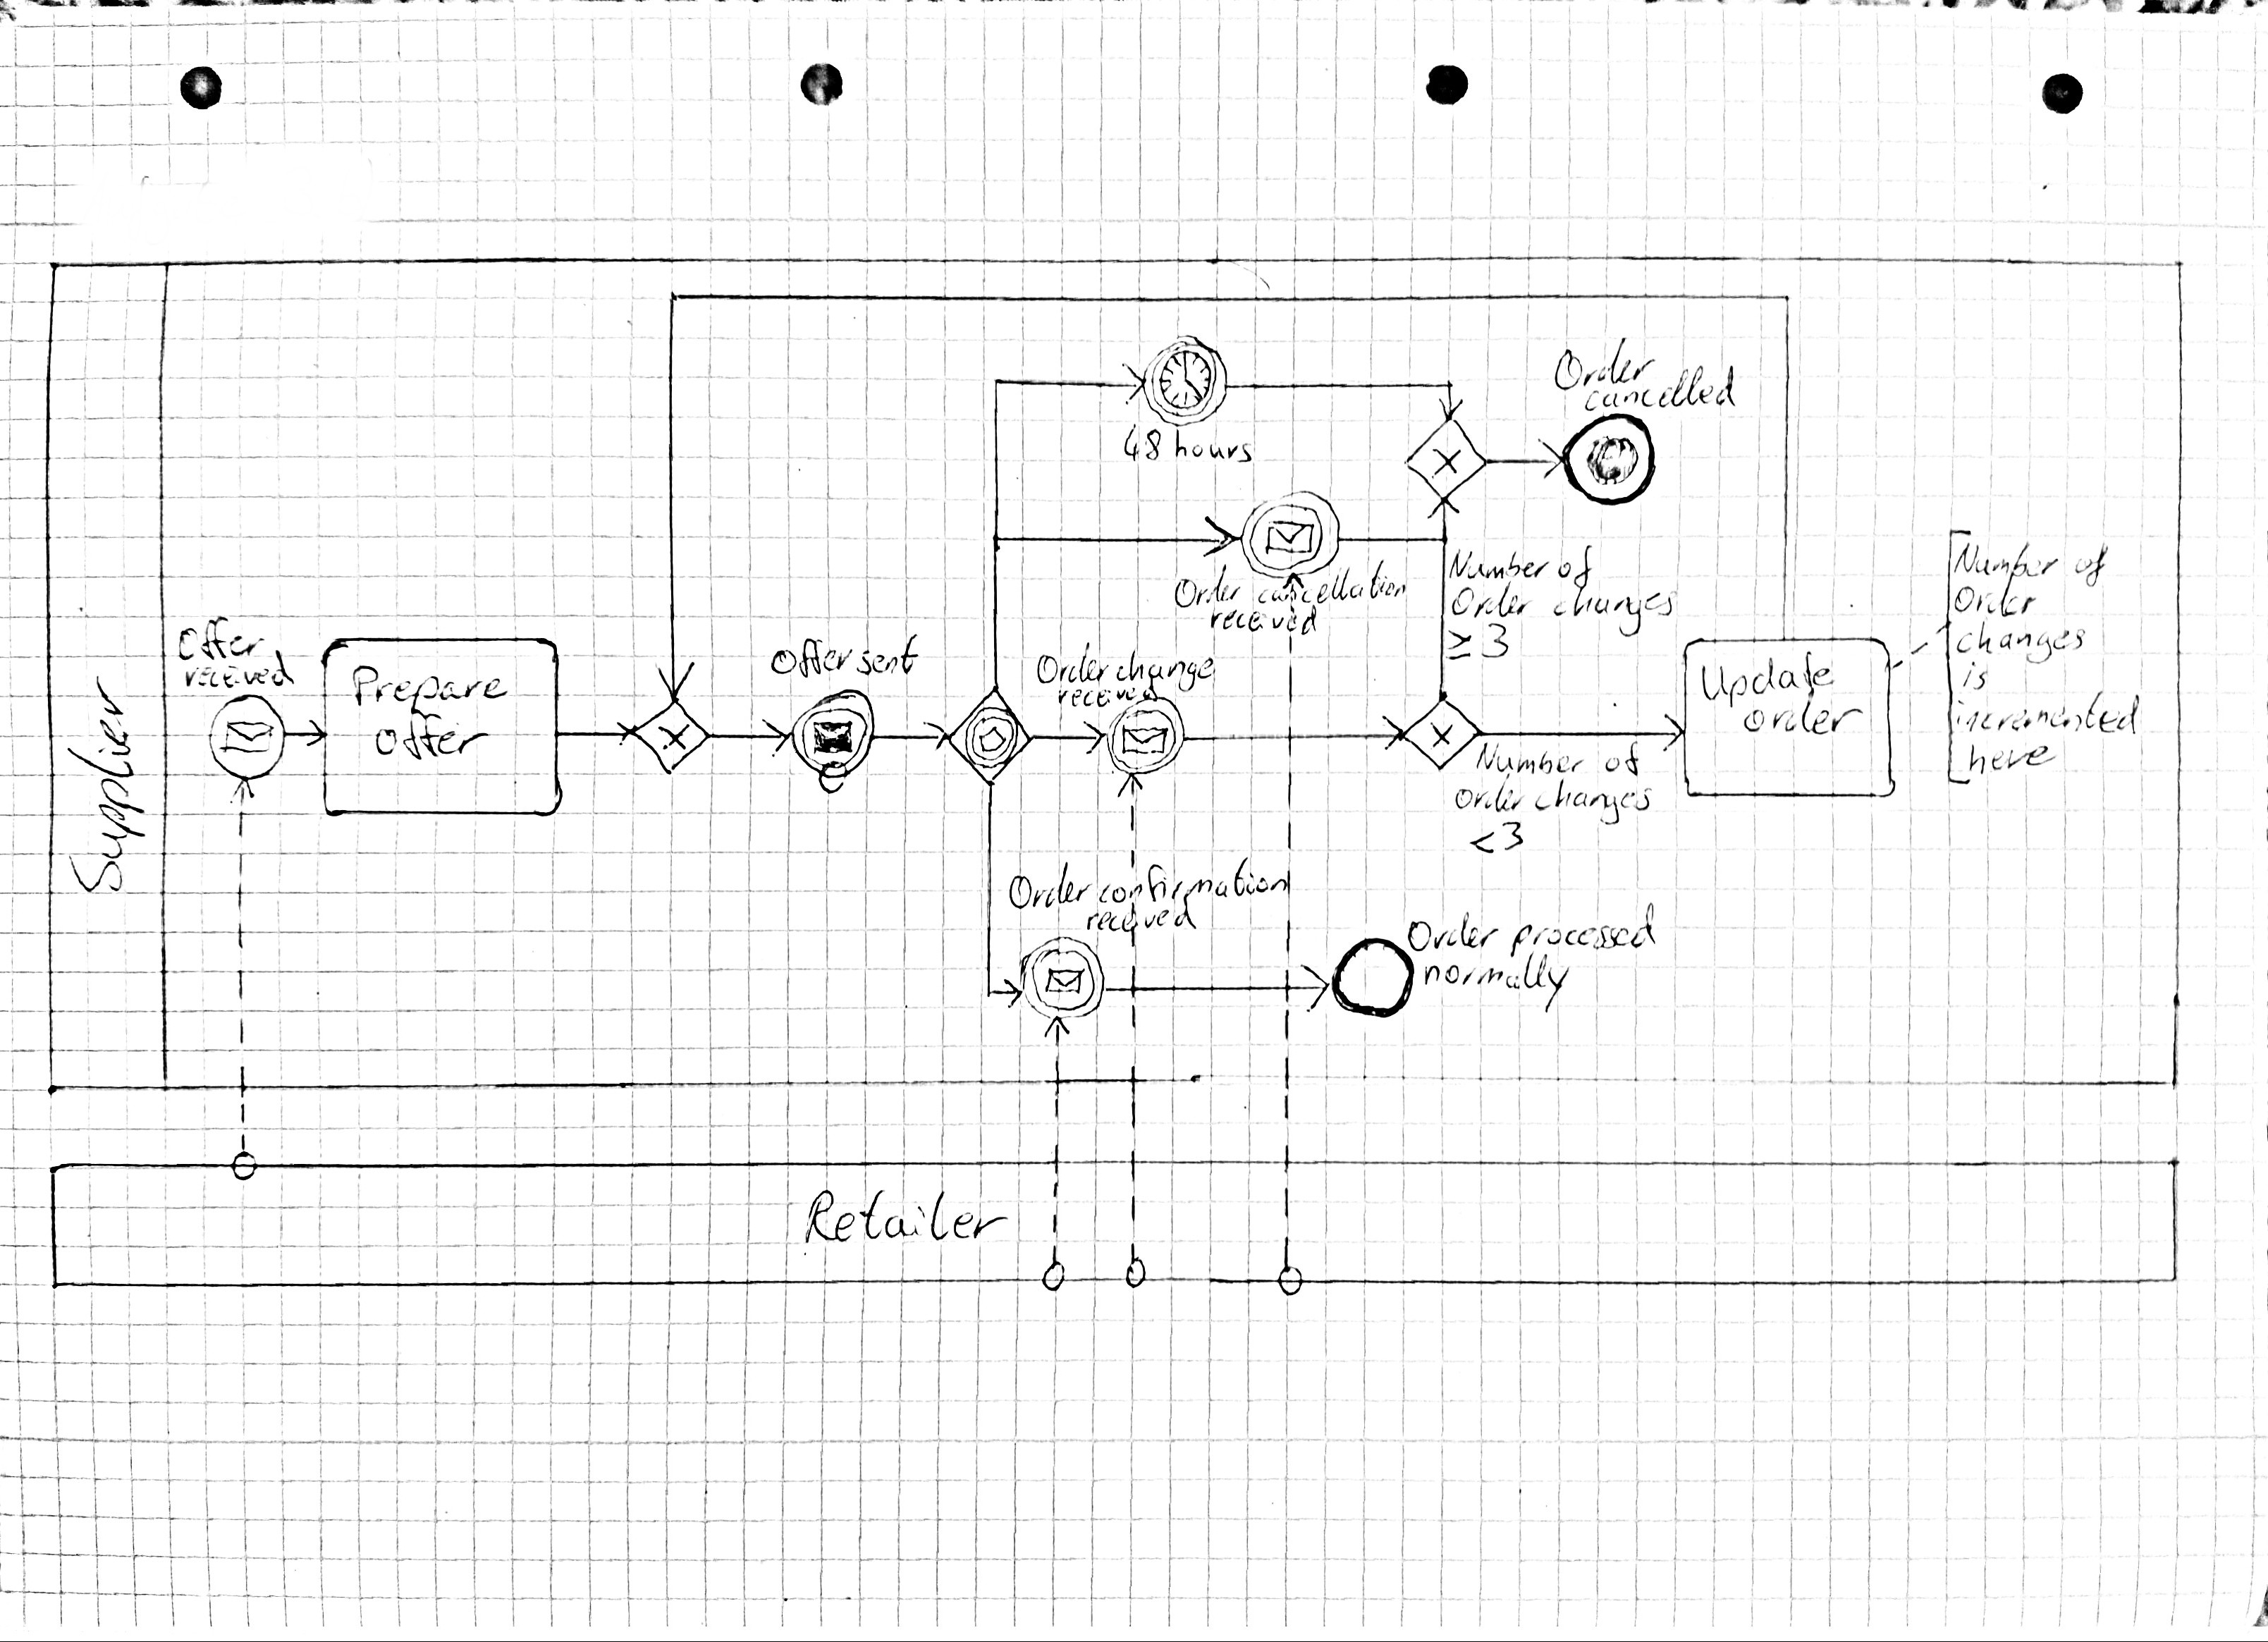48: (1120, 428, 1166, 463)
<3: (1462, 817, 1527, 867)
>=3: (1437, 618, 1516, 664)
Number: (1953, 536, 2060, 587), (1470, 740, 1592, 779), (1449, 548, 1546, 588)
Offer: (174, 618, 261, 666)
Order: (1553, 337, 1659, 384), (1409, 913, 1500, 957), (1453, 585, 1543, 625), (1011, 863, 1083, 913), (1955, 580, 2037, 620), (1176, 567, 1245, 608), (1041, 645, 1104, 685), (1454, 782, 1525, 817)
Prepare: (349, 661, 511, 714)
Retailer: (801, 1186, 1020, 1251)
Supplier: (63, 678, 130, 893)
Update: (1703, 650, 1835, 710)
cancellation: (1248, 564, 1416, 611)
cancelled: (1579, 363, 1741, 418)
change: (1106, 650, 1213, 689)
changes: (1548, 580, 1673, 625), (1951, 622, 2085, 664), (1532, 780, 1657, 817)
confirmation: (1086, 862, 1294, 911)
here: (1967, 736, 2058, 779)
hours: (1169, 430, 1255, 469)
incremented: (1953, 696, 2148, 743)
is: (1955, 661, 1993, 696)
normally: (1421, 953, 1565, 994)
of: (2069, 541, 2110, 590), (1553, 546, 1597, 590), (1602, 743, 1650, 780)
offer: (375, 719, 486, 763), (775, 640, 847, 682)
order: (1743, 696, 1863, 740)
processed: (1507, 913, 1659, 957)
received: (1083, 900, 1201, 939), (180, 654, 294, 691), (1206, 604, 1319, 634), (1057, 682, 1157, 710)
sent: (854, 636, 923, 682)
